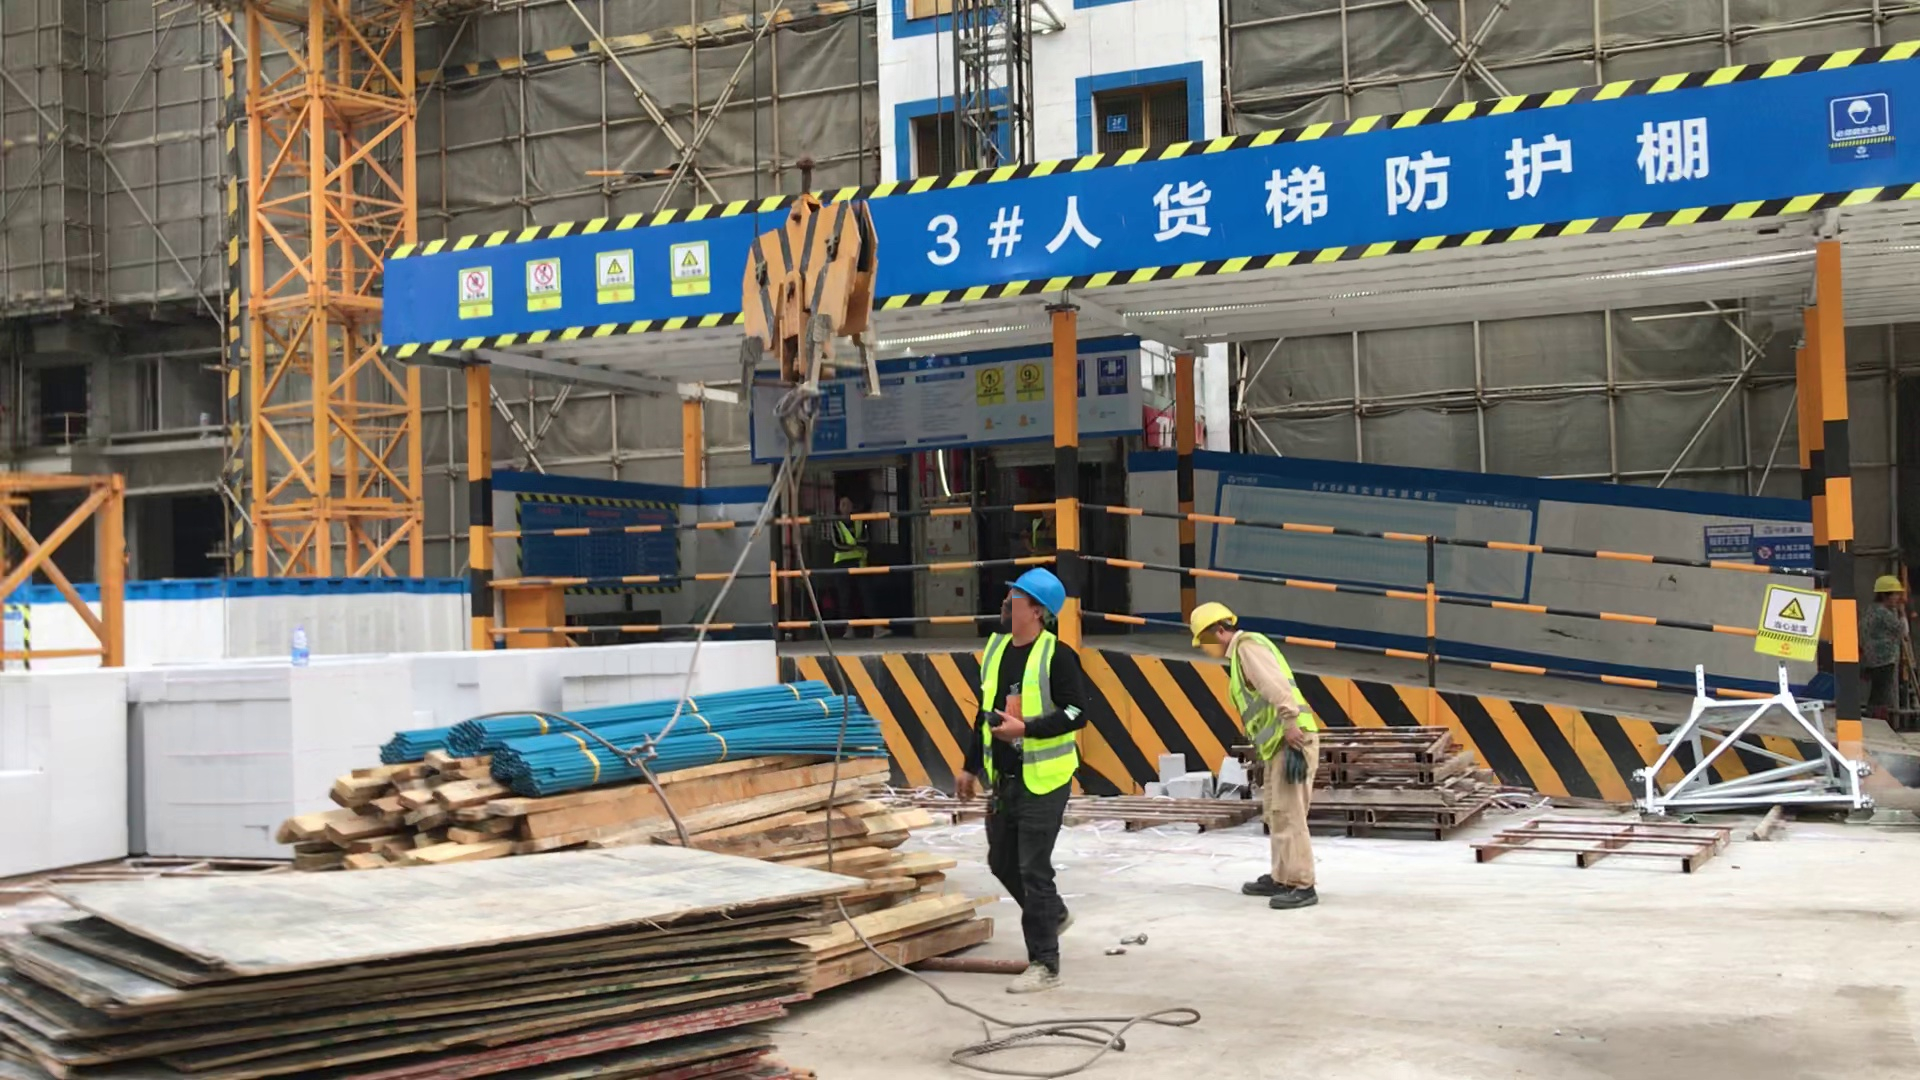board: (3, 832, 903, 1080)
brick: (1, 615, 813, 865), (1125, 747, 1253, 822)
fence: (483, 492, 1864, 722)
helmet: (998, 558, 1083, 622), (1185, 599, 1244, 649), (1866, 561, 1911, 597)
hook: (698, 143, 945, 458)
person: (1169, 587, 1378, 958), (955, 539, 1116, 1014), (1858, 562, 1920, 731), (829, 487, 889, 649)
slogan: (357, 11, 1920, 392), (1206, 450, 1583, 620), (741, 334, 1152, 473), (492, 470, 704, 608), (1746, 570, 1831, 672), (1698, 514, 1825, 577)
vest: (972, 622, 1089, 800), (1217, 627, 1330, 761), (826, 512, 874, 572)
wood: (257, 672, 1029, 1014)
